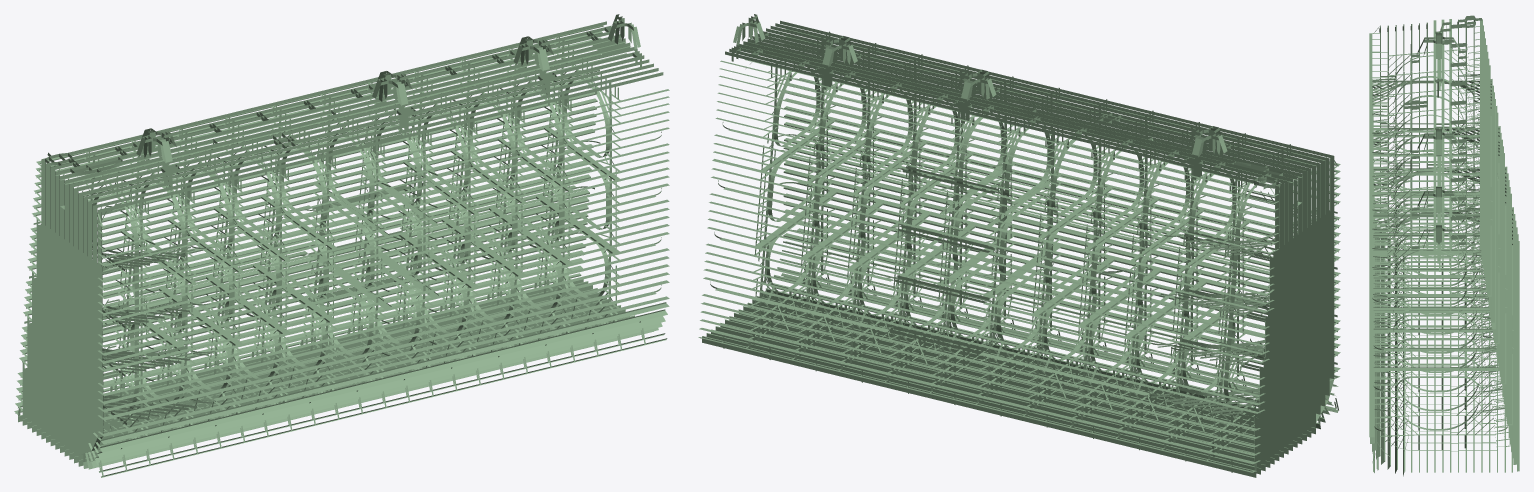
Rendered from NO_3_WING_CARGO_OIL_TK_SB.glb.
3 renders of one model, left to right at view 1: azimuth 30°, elevation 25°; view 2: azimuth 150°, elevation 25°; view 3: azimuth 270°, elevation 25°, orthographic. The views are drawn at different scales.
Visible parts, largest first — view 1: no part large enough to name; view 2: no part large enough to name; view 3: ST_SideTransxFR79SxWeb_194001-TW_795x21+180x31_NVA_1993, ST_SideTransxFR78SxWeb_194001-TW_795x21+180x31_NVA_1993, ST_SideTransxFR77SxWeb_194001-TW_795x21+180x31_NVA_1993, ST_SideTransxFR74SxWeb_082001-TW_795x21+180x31_NVA_1993, ST_SideTransxFR80SxWeb_082001-TW_795x21+180x31_NVA_1993, ST_SideTransxFR77SxWeb_195001-TW_595x12.5+150x25_NVA_1993, ST_SideTransxFR72SxWeb_195001-TW_595x12.5+150x25_NVA_1993, ST_SideTransxFR76SxWeb_082001-TW_795x21+180x31_NVA_1993.
Boxes of the visible parts, left/top/right/bottom form: ST_SideTransxFR79SxWeb_194001-TW_795x21+180x31_NVA_1993: left=1373, top=348, right=1455, bottom=351; ST_SideTransxFR78SxWeb_194001-TW_795x21+180x31_NVA_1993: left=1373, top=329, right=1455, bottom=332; ST_SideTransxFR77SxWeb_194001-TW_795x21+180x31_NVA_1993: left=1373, top=310, right=1455, bottom=313; ST_SideTransxFR74SxWeb_082001-TW_795x21+180x31_NVA_1993: left=1373, top=252, right=1455, bottom=255; ST_SideTransxFR80SxWeb_082001-TW_795x21+180x31_NVA_1993: left=1373, top=368, right=1455, bottom=370; ST_SideTransxFR77SxWeb_195001-TW_595x12.5+150x25_NVA_1993: left=1373, top=250, right=1455, bottom=252; ST_SideTransxFR72SxWeb_195001-TW_595x12.5+150x25_NVA_1993: left=1373, top=154, right=1455, bottom=156; ST_SideTransxFR76SxWeb_082001-TW_795x21+180x31_NVA_1993: left=1373, top=294, right=1455, bottom=296.
Bounding box in the file's own units: 62.88 × 31.5 × 17.37.
